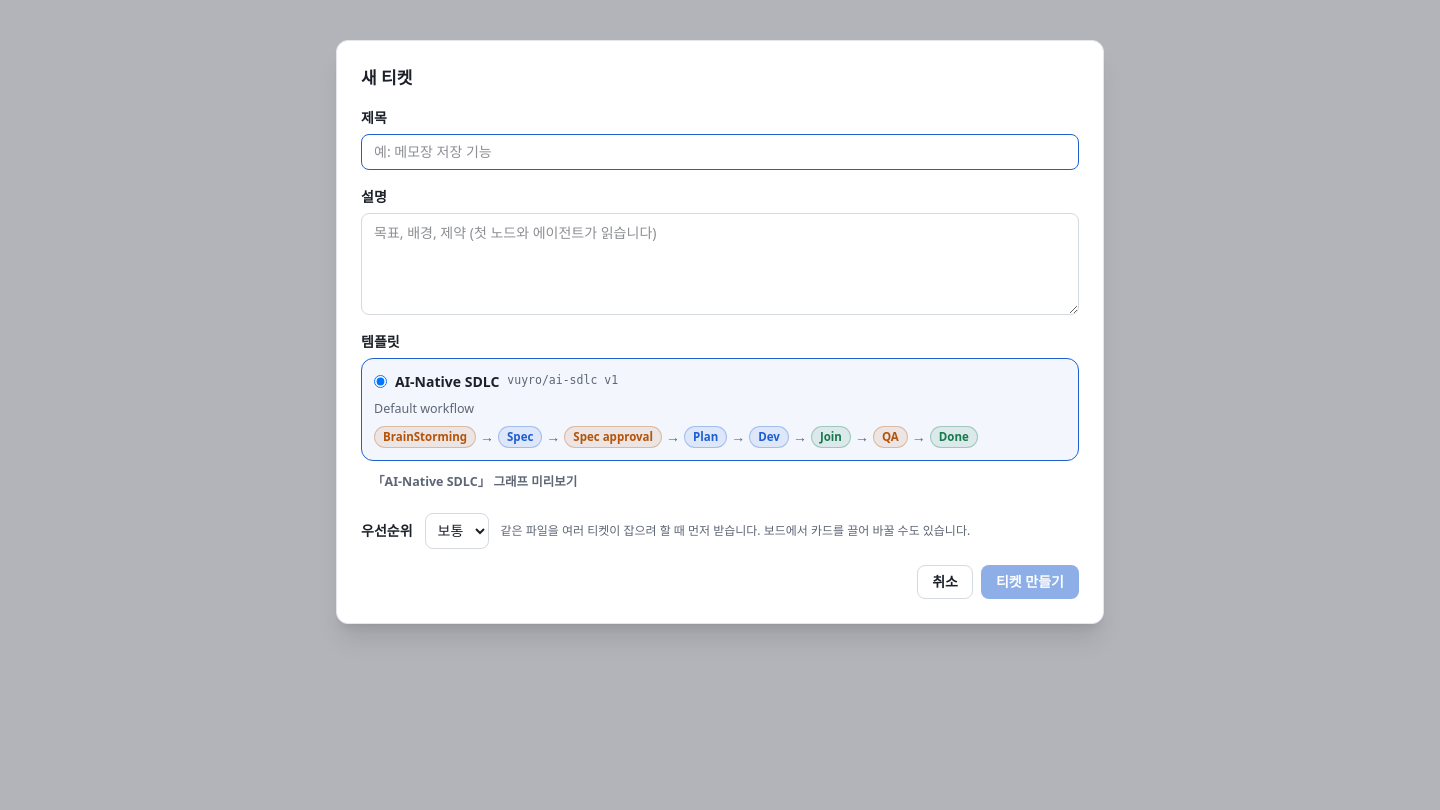
new ticket › shows the engine refusal instead of closing
Type "x" into the field labelled "제목" at (720, 152), box [361,134,1079,170]
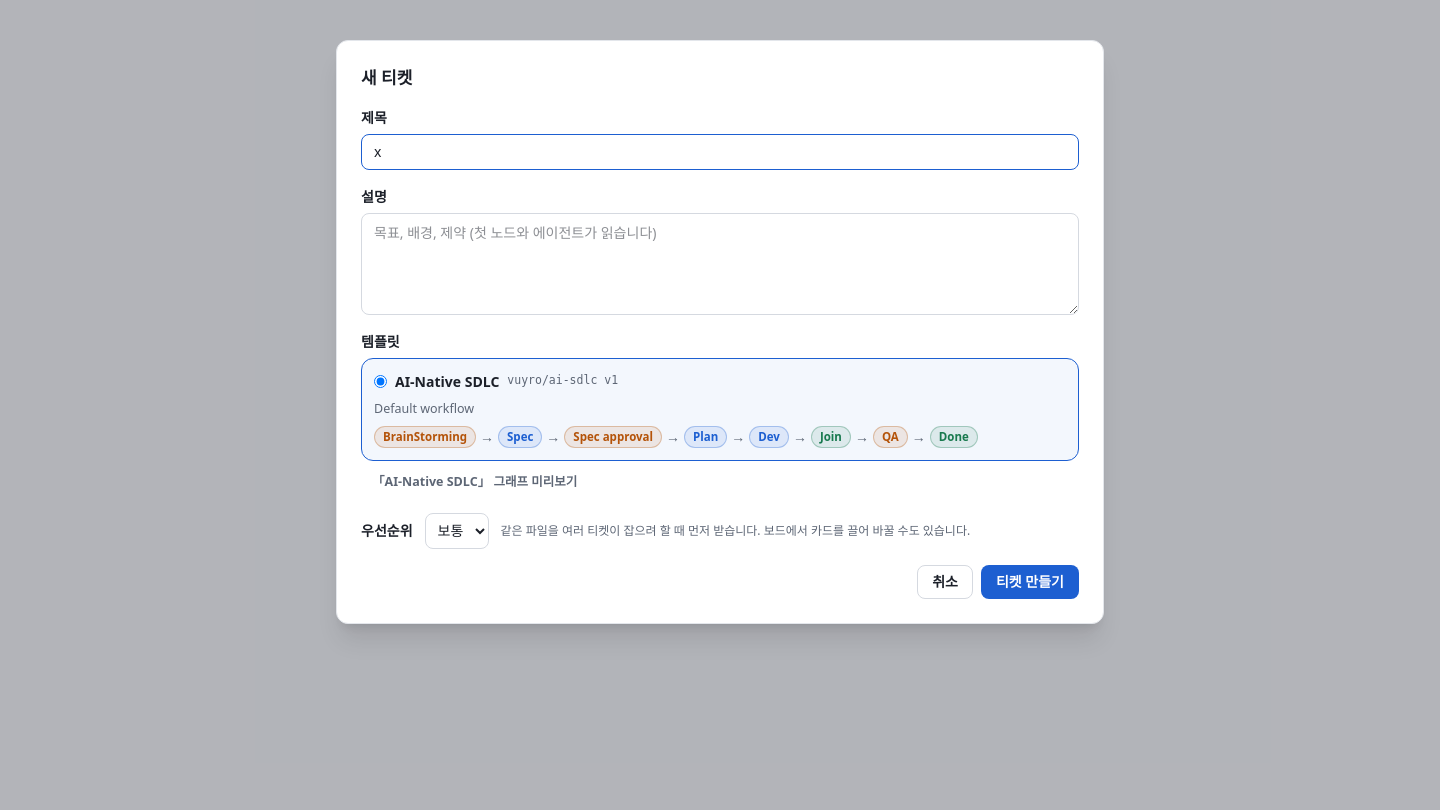
Click the button "티켓 만들기" at (1030, 582), box [981,564,1079,598]
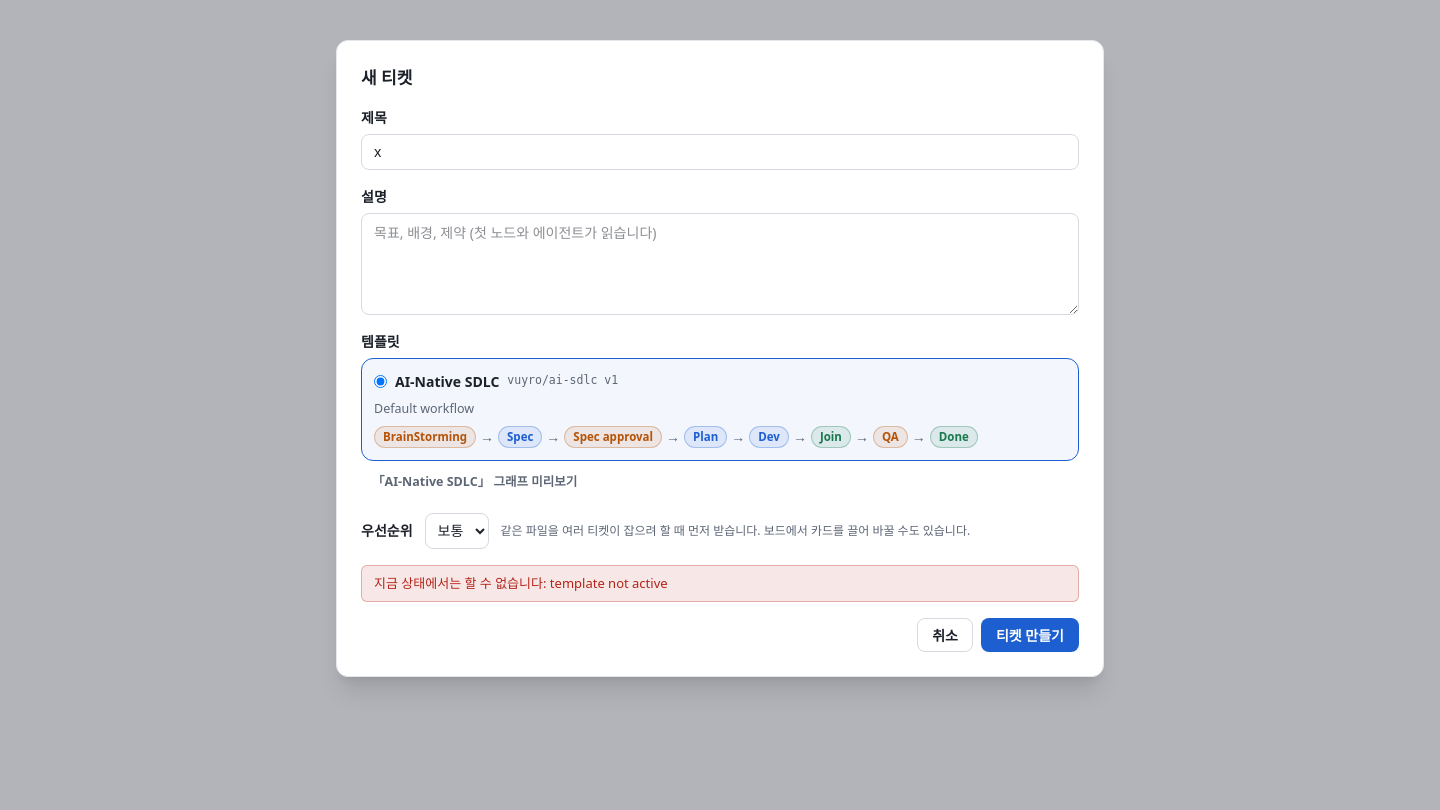
Now the message reads "지금 상태에서는 할 수 없습니다: template not active", box [374,574,668,592]
